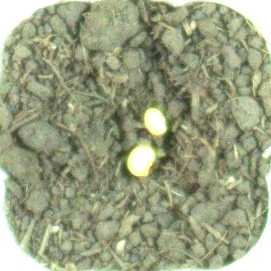chilli seed: (124, 143, 157, 178), (143, 107, 169, 136)
